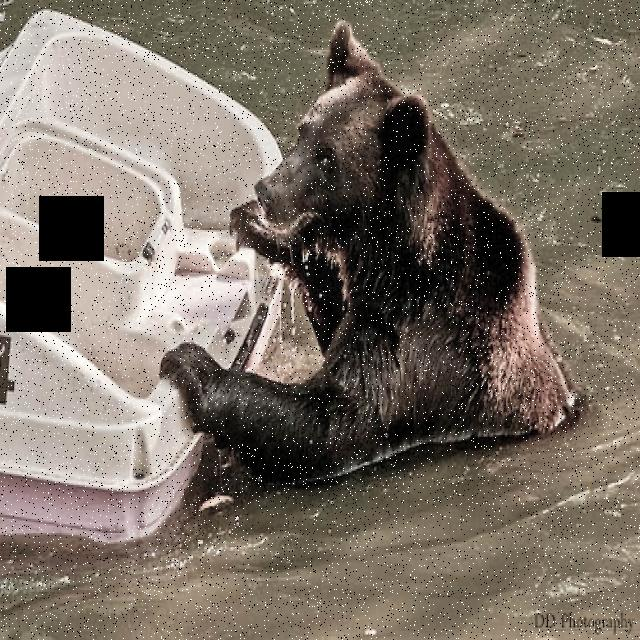Bear: (171, 15, 598, 460)
